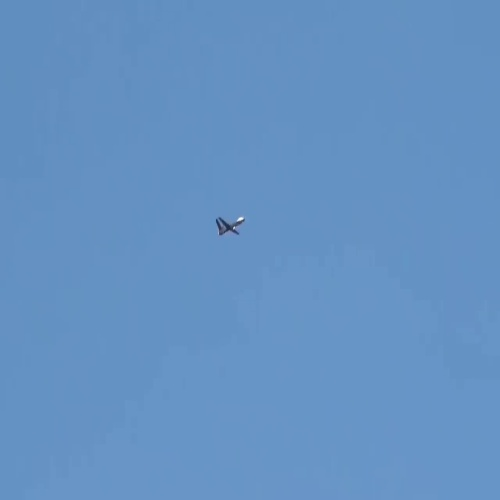uav23: (212, 213, 246, 237)
